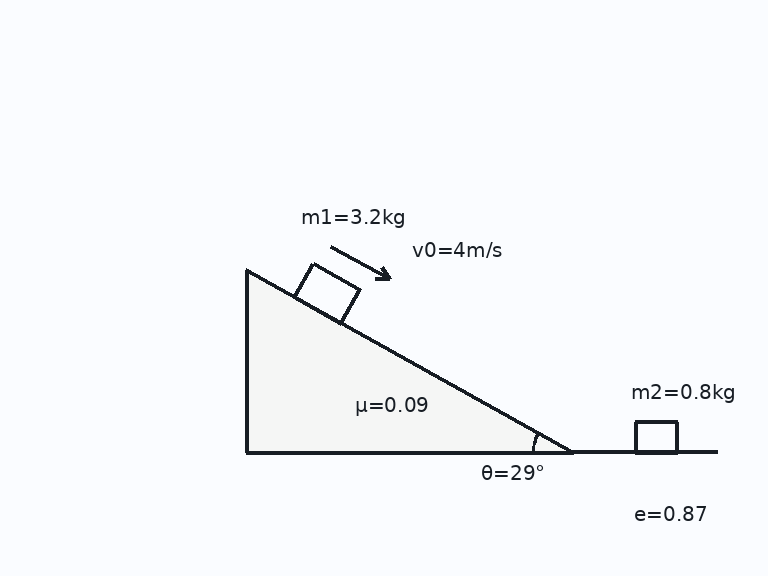block: (292, 261, 361, 325), (633, 419, 679, 454)
ramp: (244, 269, 575, 454)
